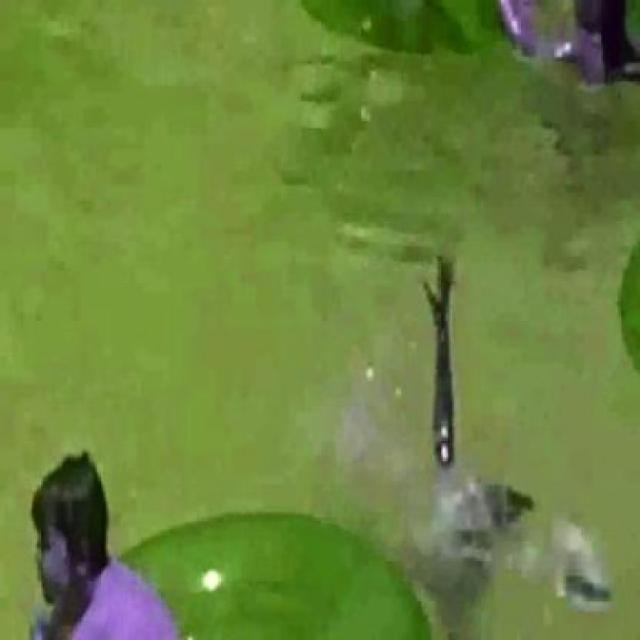drowning: (404, 429, 601, 616), (18, 443, 177, 631)
